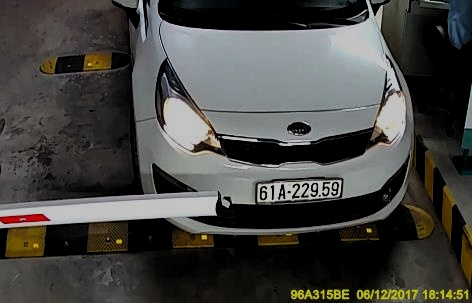plate: (251, 172, 344, 209)
